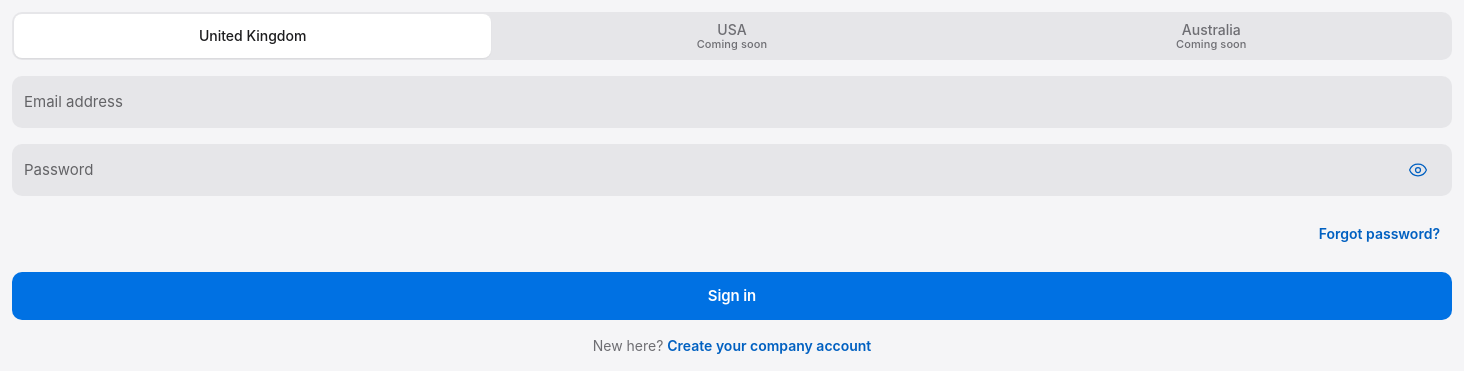
LoginForm › offers UK only, shows the password on request, and links to reset and sign-up
The image size is (1464, 371).
Expected: the element named "Region" shows "United Kingdom", x1=14 y1=14 x2=491 y2=58
Type "secret" into the password field labelled "Password".
click(706, 170); type("secret")  # box x1=24 y1=144 x2=1388 y2=196
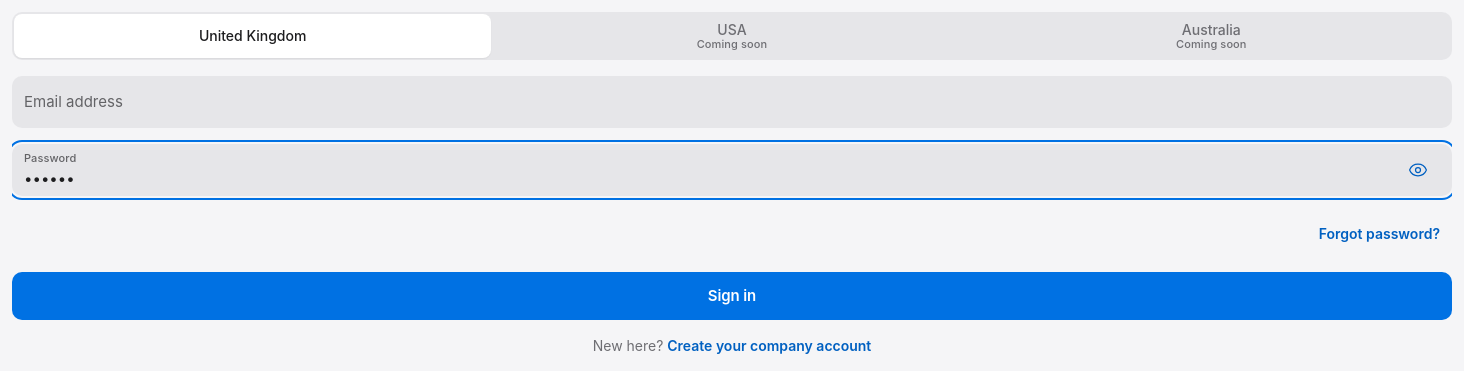
Click the button named "Show password".
click(1418, 170)  # box x1=1396 y1=148 x2=1440 y2=192
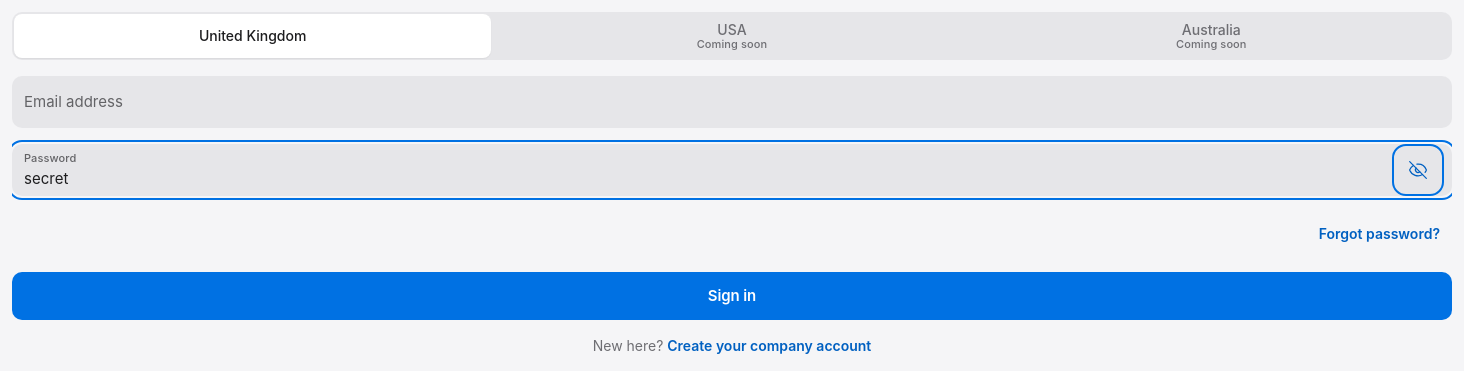
Now the field labelled "Password" shows its text, box x1=24 y1=144 x2=1388 y2=196
